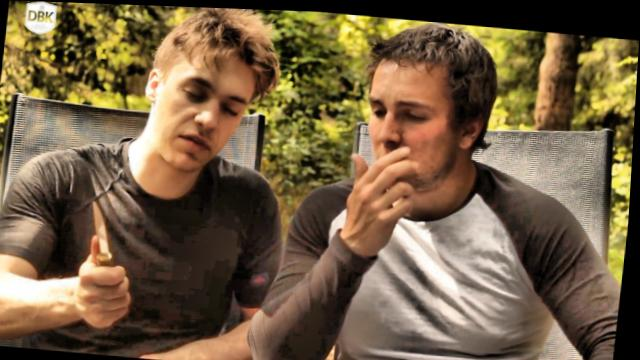knife: (69, 190, 154, 315)
